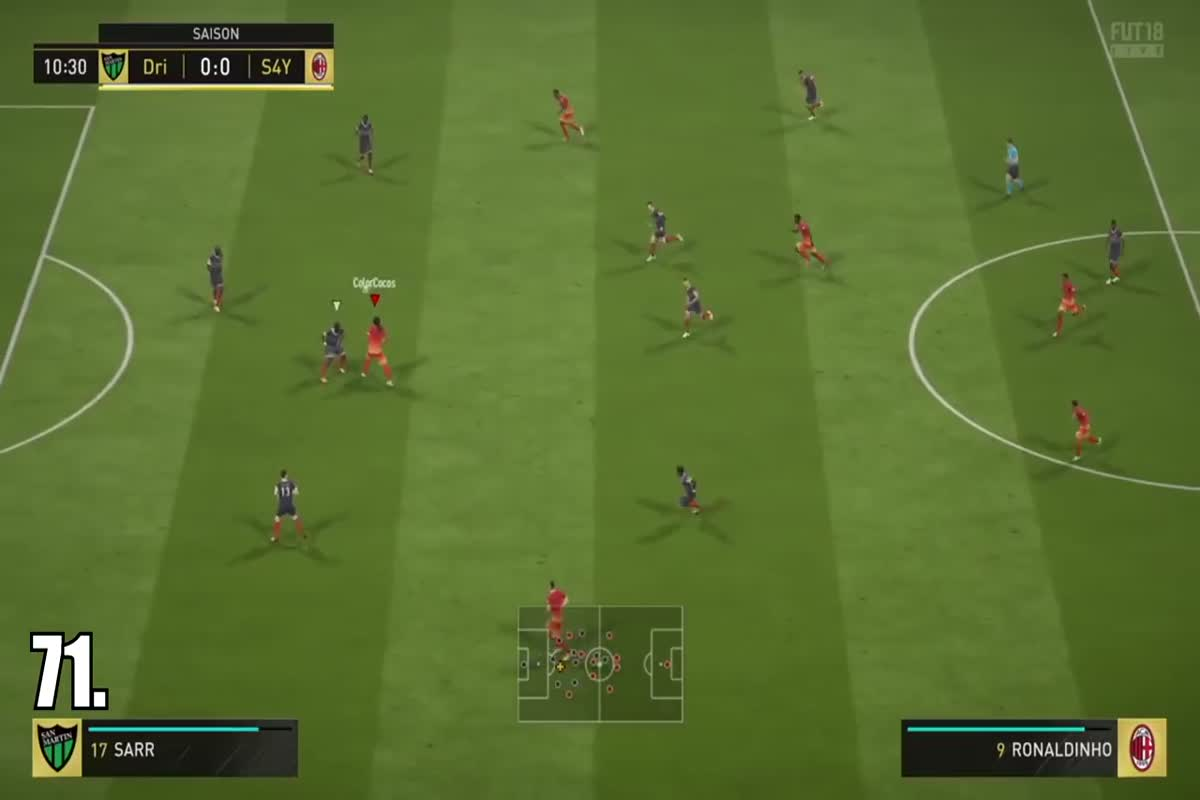ball: (356, 283, 370, 299)
